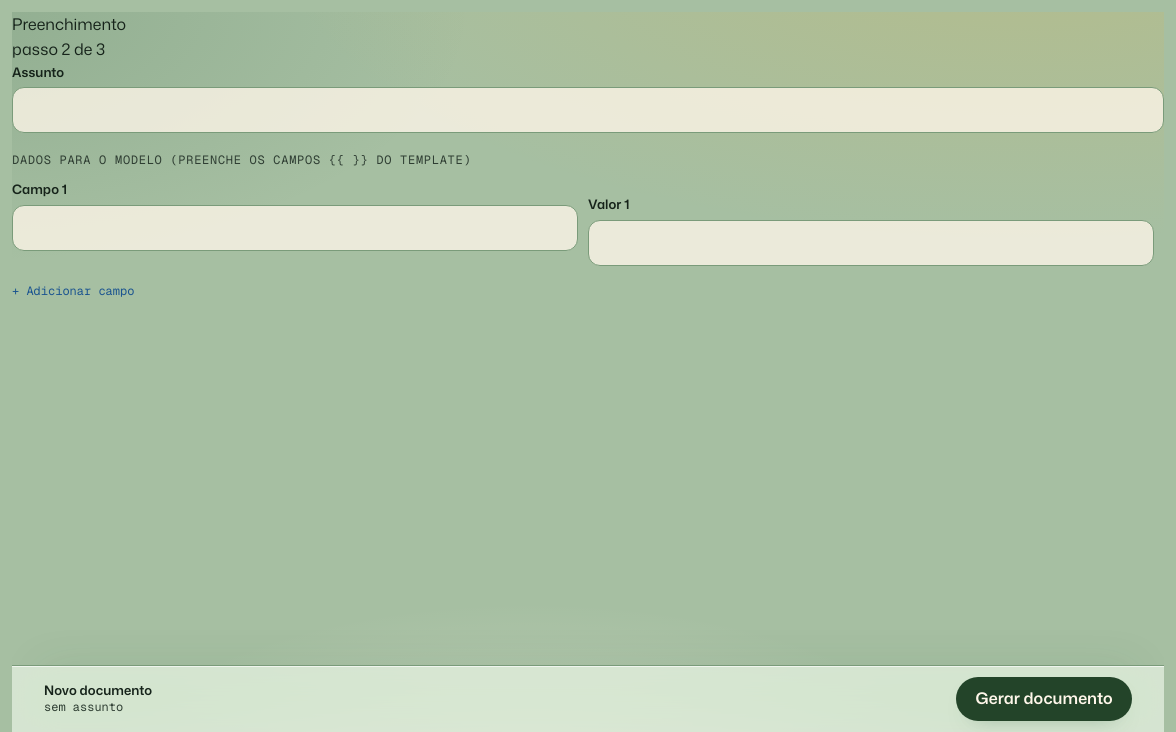
Test case: FormularioPreenchimento — fase de composição (documento ainda não existe) › '+ Adicionar campo' acrescenta uma nova linha de dados
What coordinates should you click on to do the following:
click the button "+ Adicionar campo"
I would click on:
 (73, 292)
Its box is x1=12 y1=279 x2=134 y2=304.
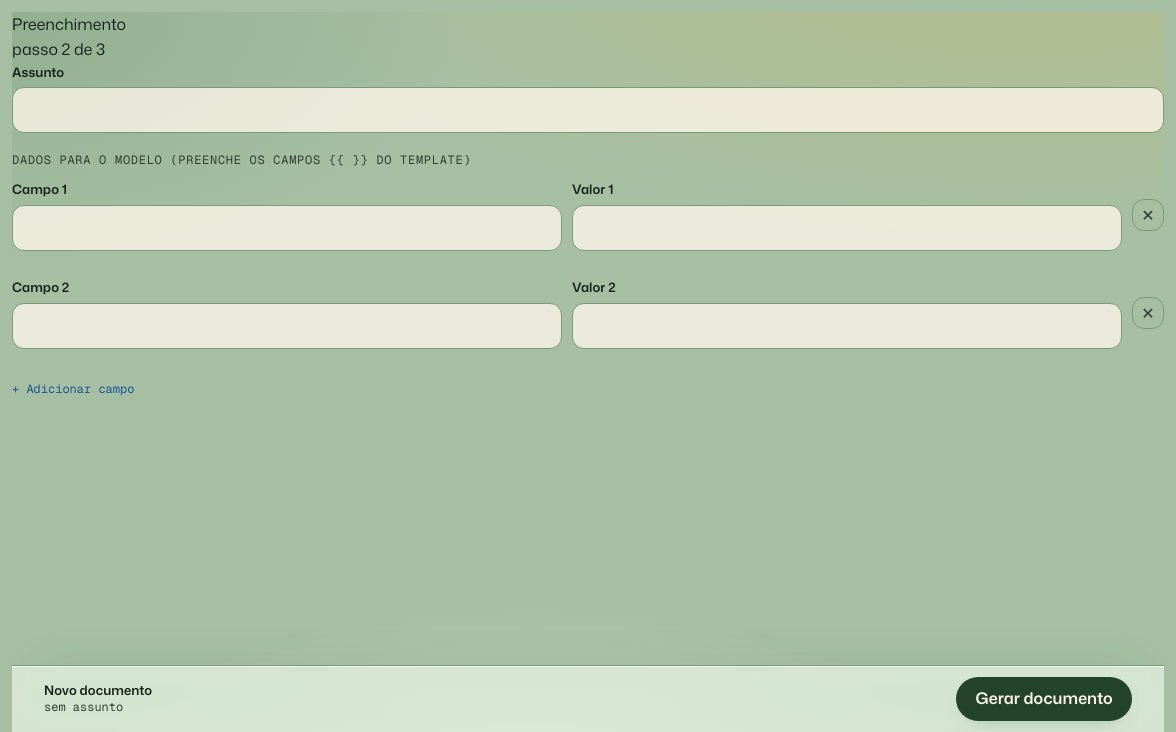
Now the field labelled "Campo 2" is shown, box x1=12 y1=303 x2=562 y2=349
